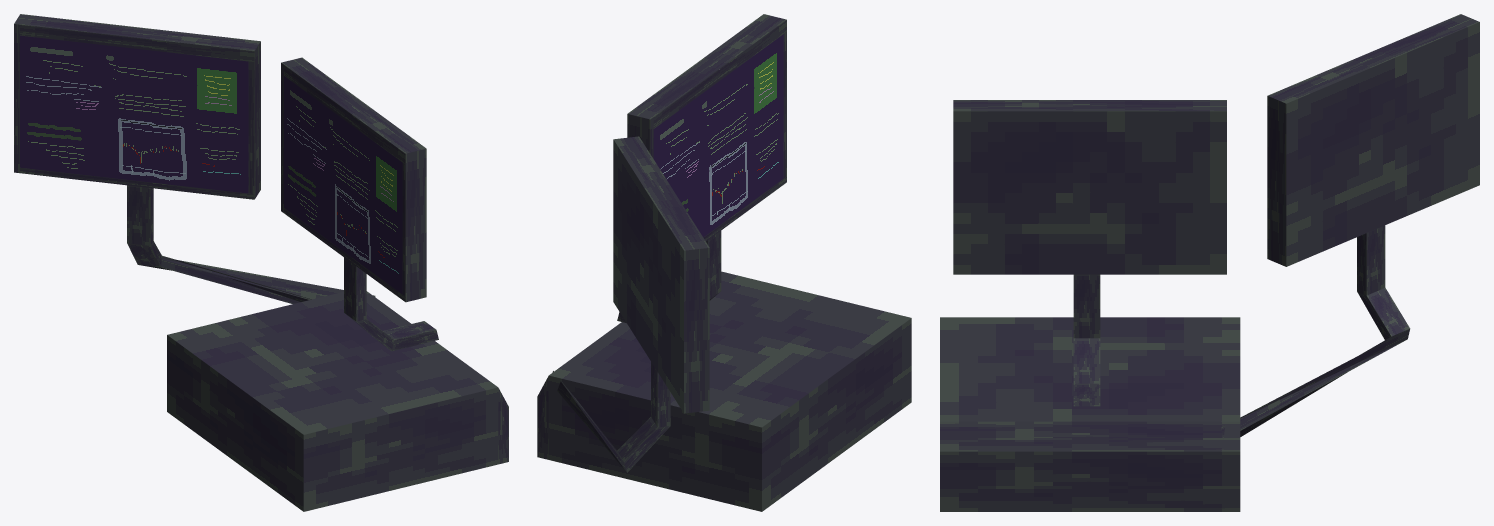
The model's file is computer.gltf.
3 renders of one model, left to right at view 1: azimuth 30°, elevation 25°; view 2: azimuth 150°, elevation 25°; view 3: azimuth 270°, elevation 25°, orthographic. The views are drawn at different scales.
Visible parts, largest first — view 1: computer; view 2: computer; view 3: computer.
Part boxes in pixels (left/top/right/bottom): computer: left=14, top=14, right=508, bottom=511; computer: left=537, top=14, right=911, bottom=511; computer: left=940, top=14, right=1479, bottom=511.
Size of the model in its own units: 12.25 by 14.87 by 20.22.
Materials: 2 (2 with a texture image).
